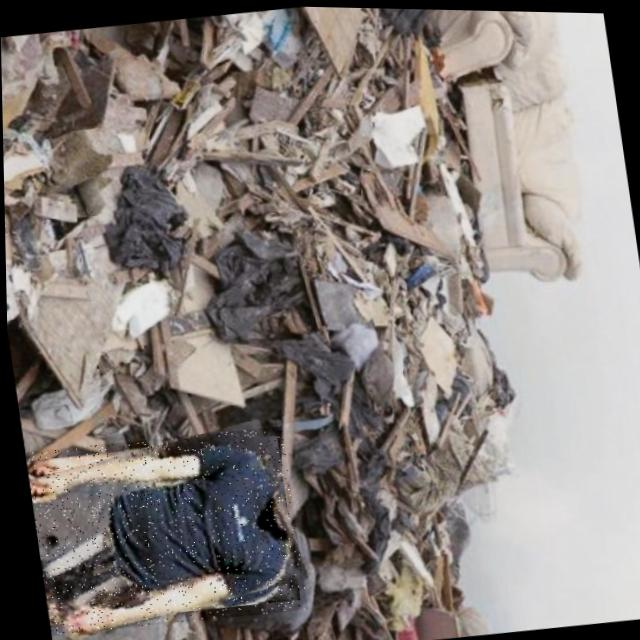Person in Rubble: (21, 420, 304, 639)
